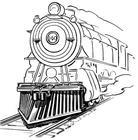train: (15, 1, 136, 130)
